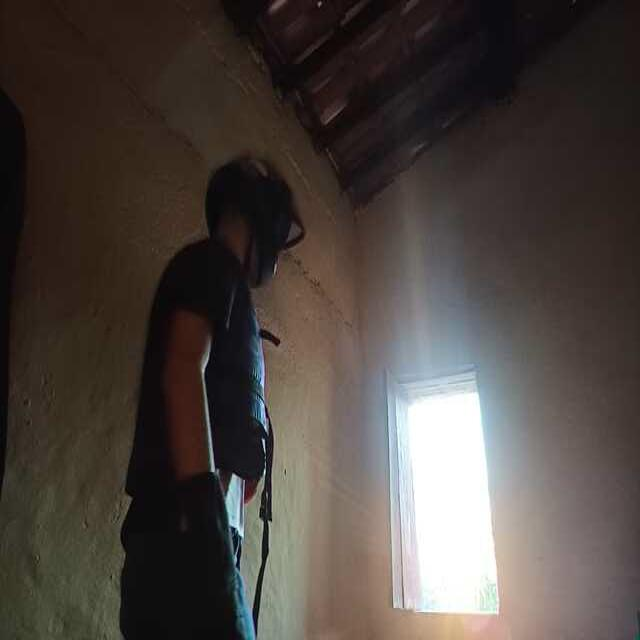capacete: (205, 160, 301, 279)
colete: (140, 263, 278, 483)
pessoa: (131, 149, 277, 640)
